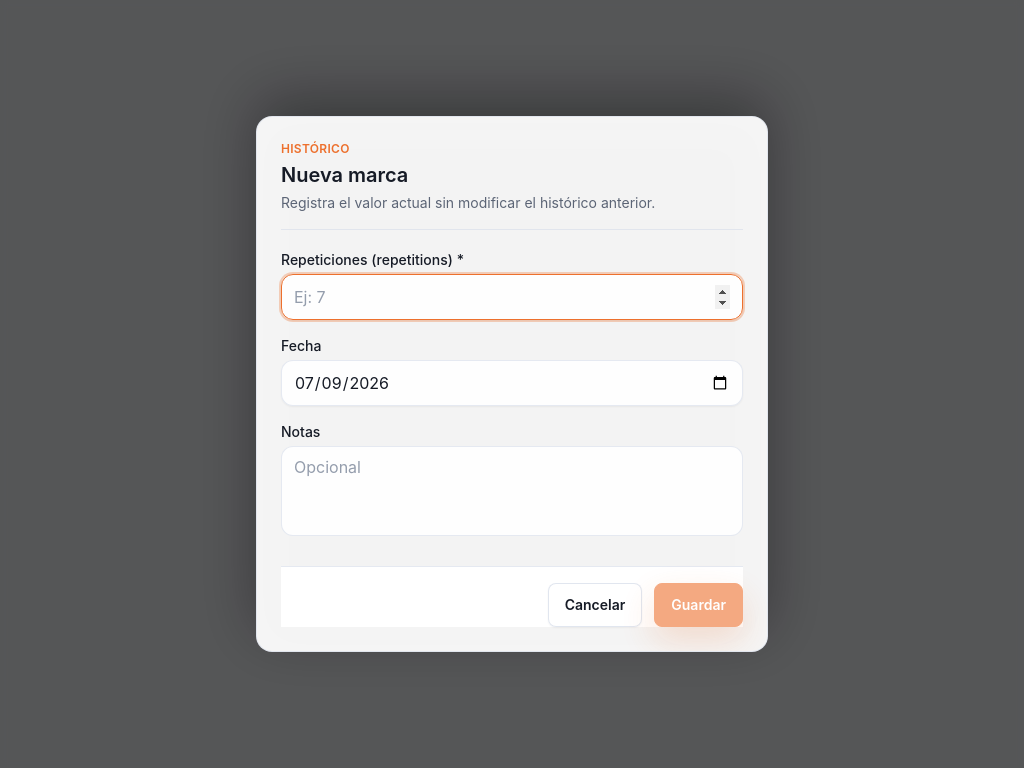
PerformanceForm › enables submit when the required value has content
Type "100" into the number field labelled "Repeticiones (repetitions) *" at (512, 297), box [281,274,743,320]
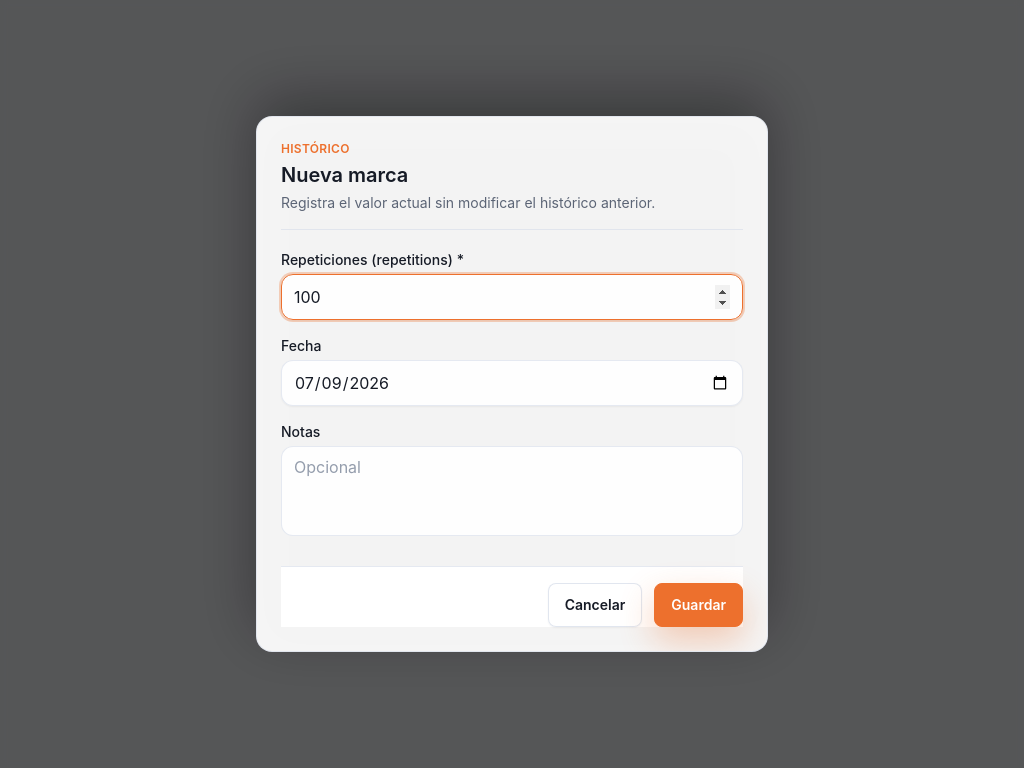
Now the button "Guardar" is enabled, box [654,583,743,627]
